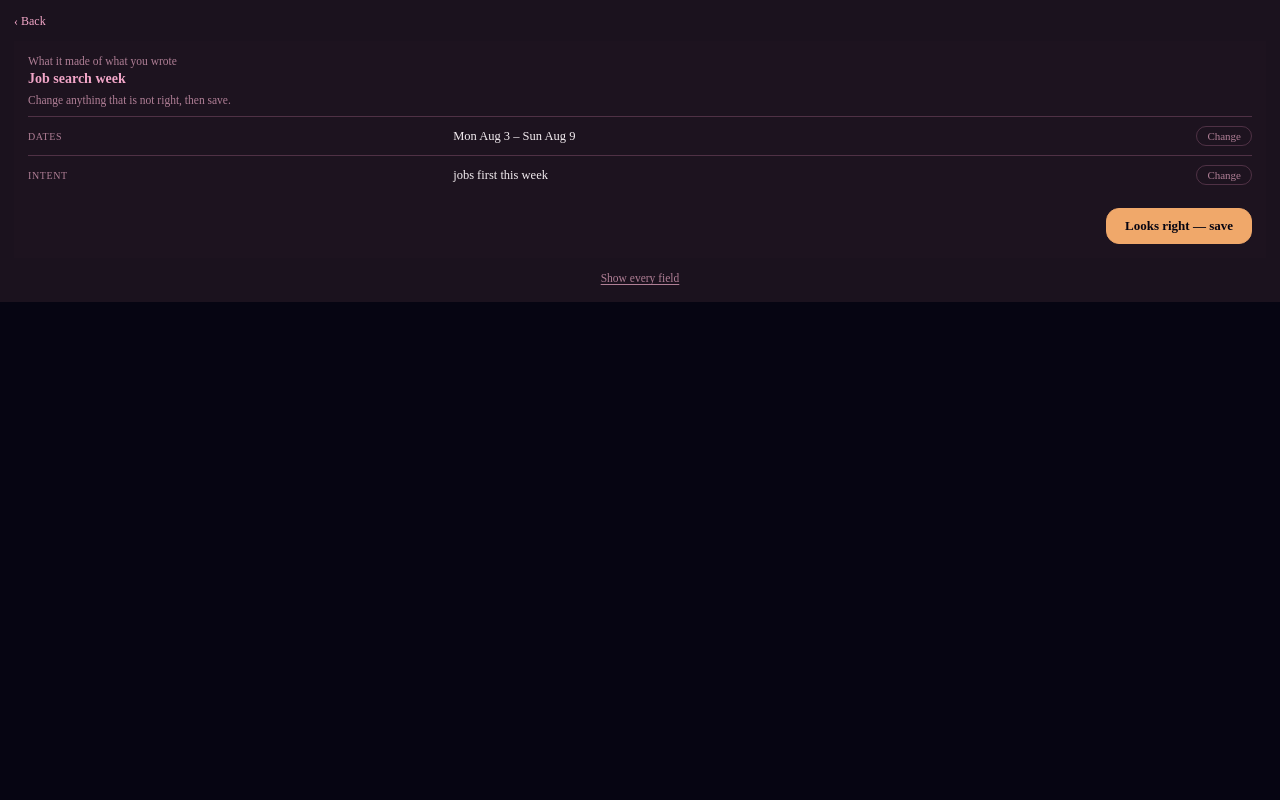
Scenario: the author flow lands on the read-back › offers a way to reach the fields the read-back does not itemise, such as the name
expect the text "Job search week" is shown: met, box left=28, top=71, right=126, bottom=86
Step 1. Click the button "Show every field" → (640, 278), box left=597, top=268, right=683, bottom=288
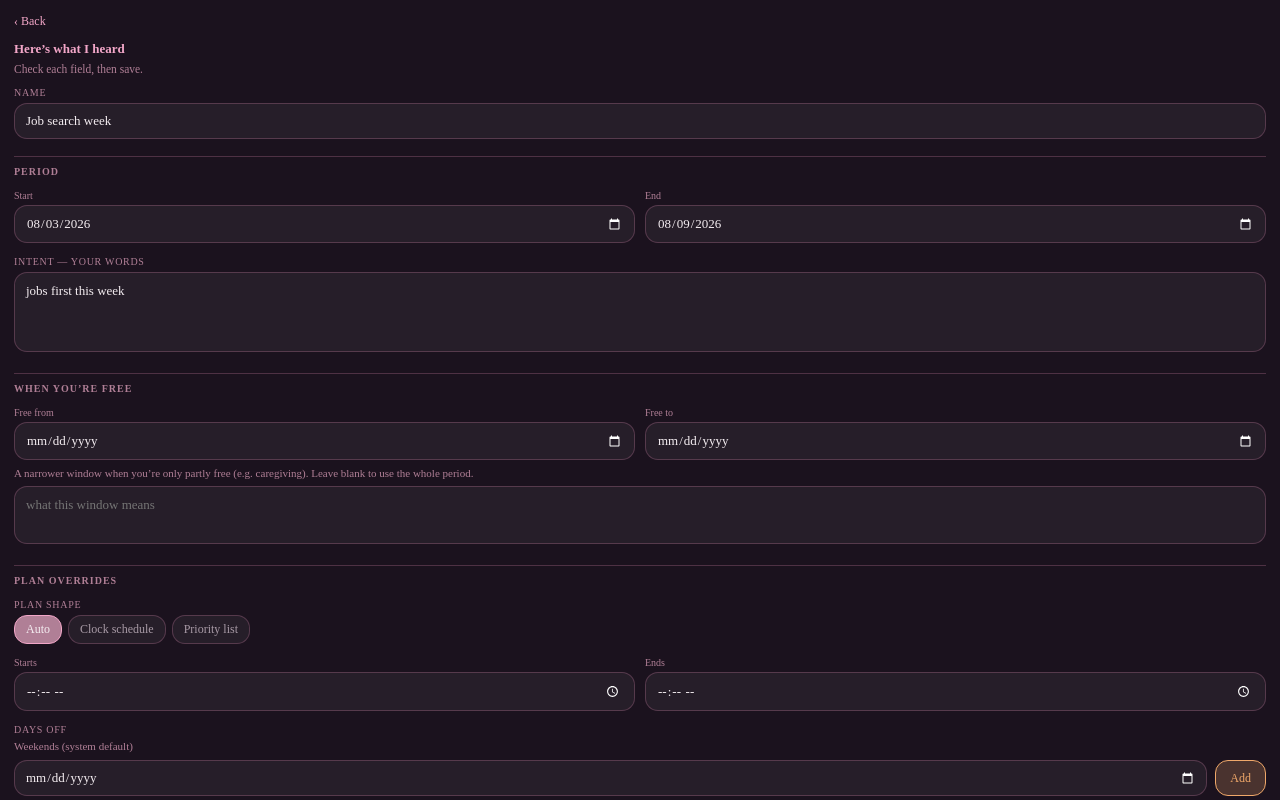
expect the text "Name" is shown: met, box left=14, top=87, right=46, bottom=98
